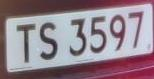3: (66, 10, 91, 62)
5: (87, 12, 109, 59)
7: (127, 8, 148, 54)
9: (107, 8, 128, 52)
S: (37, 15, 62, 66)
T: (14, 16, 40, 69)
